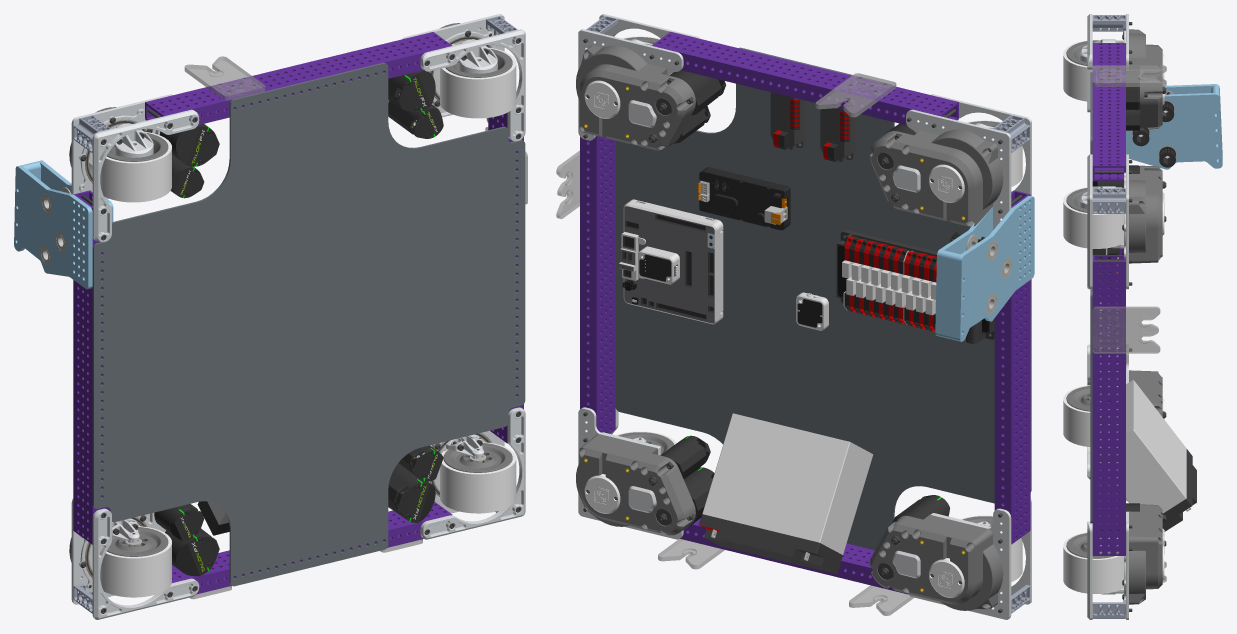
The picture shows the model from 3 angles, left to right: view 1: azimuth 30°, elevation 25°; view 2: azimuth 150°, elevation 25°; view 3: azimuth 270°, elevation 25°; orthographic projection. The views are drawn at different scales.
Parts seen in each view (by area): view 1: 0100 - Bellypan, Part 1 (×4), Part 9 (×4), 0100 - Perfil 2x1 17.375" (×2), Part 7 (×2), Part 8 (×2), 0100 - Perfil 2x1 19.375", Part 5 (×2), Kraken X60 Brushless Motor (×4), Kraken X44 Brushless Motor (×4), Part 10 (×2), 0101-Gusset Bumper Single (+2 smaller); view 2: 0100 - Bellypan, Part 1 (×6), Robot Battery, 0100 - Perfil 2x1 19.375" (×2), 0100 - Perfil 2x1 17.375" (×2), id180, Simplified PDP 2.0, 0101-Gusset Bumper Single (×3), MitoCANdria, Simplified MPM (×2), Kraken X44 Brushless Motor (×2), Kraken X60 Brushless Motor (×2) (+7 smaller); view 3: Part 1 (×6), 0100 - Perfil 2x1 19.375", Robot Battery, 0100 - Perfil 2x1 17.375", Part 9 (×3), Part 7 (×2), 0102-Gusset Bumper Doble, MK5 Corner Block (×3), 0101-Gusset Bumper Single, Part 5 (×2), Part 8 (×2), 0100 - Bellypan (+3 smaller).
Boxes of the visible parts, x1,y1,x2,y2 form: 0100 - Bellypan: (92,62,525,586); Part 1 (×4): (14,14,504,604); Part 9 (×4): (85,35,516,578); 0100 - Perfil 2x1 17.375" (×2): (145,32,452,594); Part 7 (×2): (100,47,516,597); Part 8 (×2): (92,109,525,539); 0100 - Perfil 2x1 19.375": (73,190,109,544); Part 5 (×2): (92,29,525,619); Kraken X60 Brushless Motor (×4): (159,70,435,576); Kraken X44 Brushless Motor (×4): (154,100,443,540); Part 10 (×2): (85,119,491,496); 0101-Gusset Bumper Single: (184,56,265,100); 0100 - Bellypan: (615,47,1031,550); Part 1 (×6): (576,29,1034,619); Robot Battery: (699,413,873,574); 0100 - Perfil 2x1 19.375" (×2): (580,136,1030,544); 0100 - Perfil 2x1 17.375" (×2): (651,31,958,594); id180: (619,199,723,324); Simplified PDP 2.0: (836,229,994,343); 0101-Gusset Bumper Single (×3): (658,73,913,615); MitoCANdria: (698,167,790,230); Simplified MPM (×2): (770,92,855,161); Kraken X44 Brushless Motor (×2): (660,435,949,523); Kraken X60 Brushless Motor (×2): (669,70,721,526); Part 1 (×6): (1122,14,1222,619); 0100 - Perfil 2x1 19.375": (1092,255,1125,555); Robot Battery: (1100,380,1196,531); 0100 - Perfil 2x1 17.375": (1092,43,1125,181); Part 9 (×3): (1063,40,1123,593); Part 7 (×2): (1063,186,1123,446); 0102-Gusset Bumper Doble: (1092,306,1160,353); MK5 Corner Block (×3): (1092,15,1125,618); 0101-Gusset Bumper Single: (1092,65,1166,86); Part 5 (×2): (1087,154,1092,479); Part 8 (×2): (1087,14,1092,619); 0100 - Bellypan: (1090,72,1092,523).
Size of the model in its own units: 0.6728 by 0.7239 by 0.2417.
